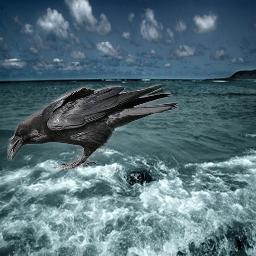Crow: (7, 84, 179, 169)
